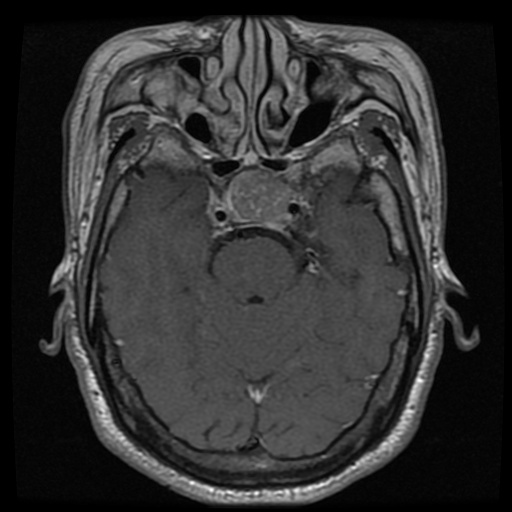pituitary: (229, 168, 301, 224)
